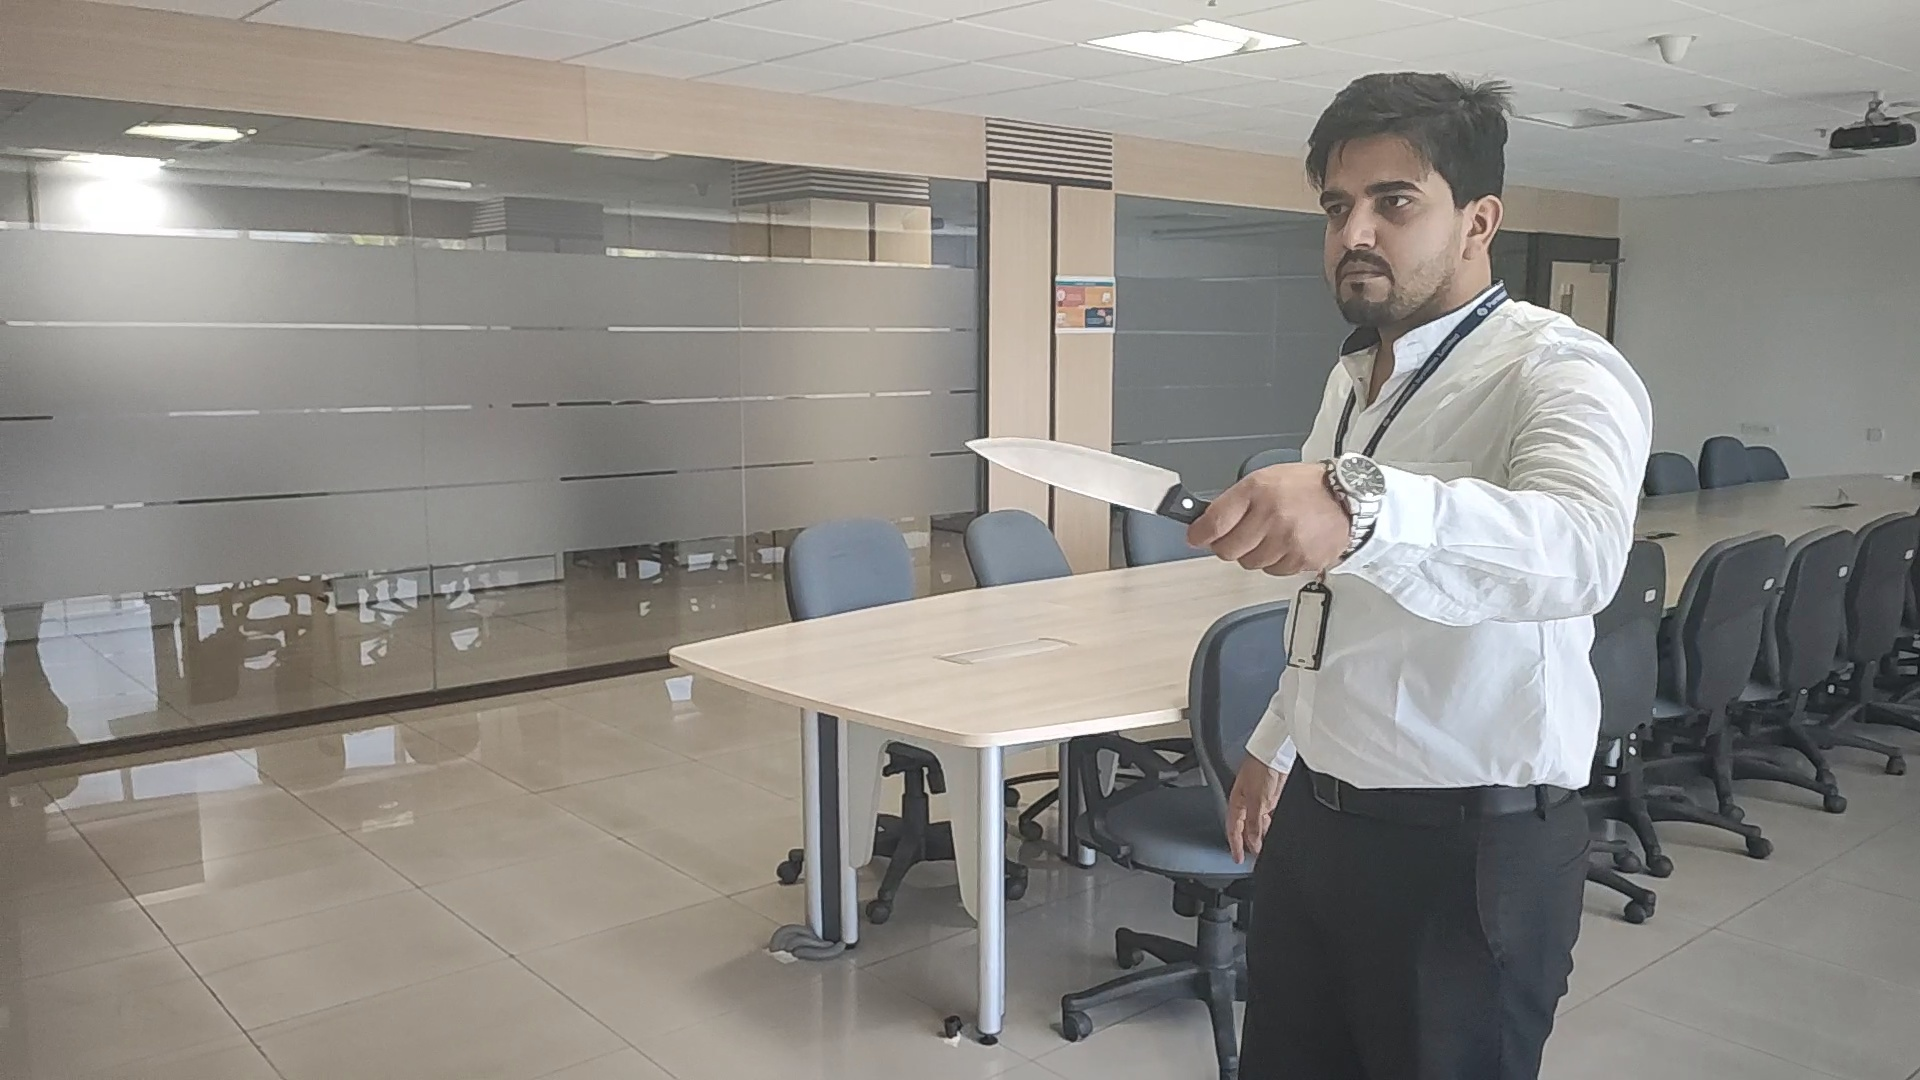knife: (967, 433, 1207, 521)
